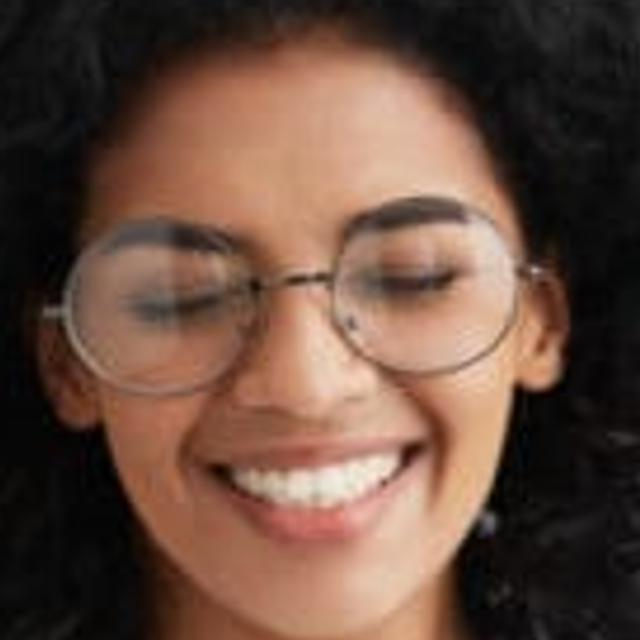close: (80, 182, 256, 356), (320, 180, 498, 316)
